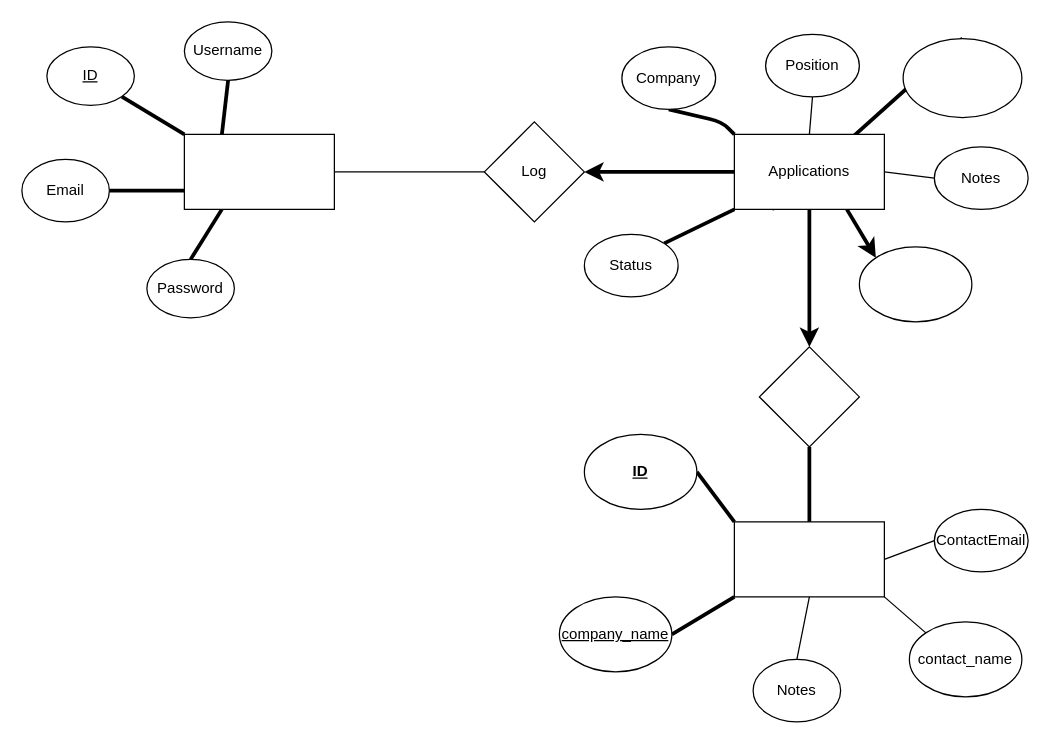
Some shapes in this 1050 by 744 pixel diagram are drawn without their labels. The centre of each missing label's shape, as x and y in pixels:
Companies: the point at 808,559
DateApplied (or contacted): the point at 962,77
fk_companies: the point at 915,284
to work at: the point at 808,396
Users: the point at 258,171
